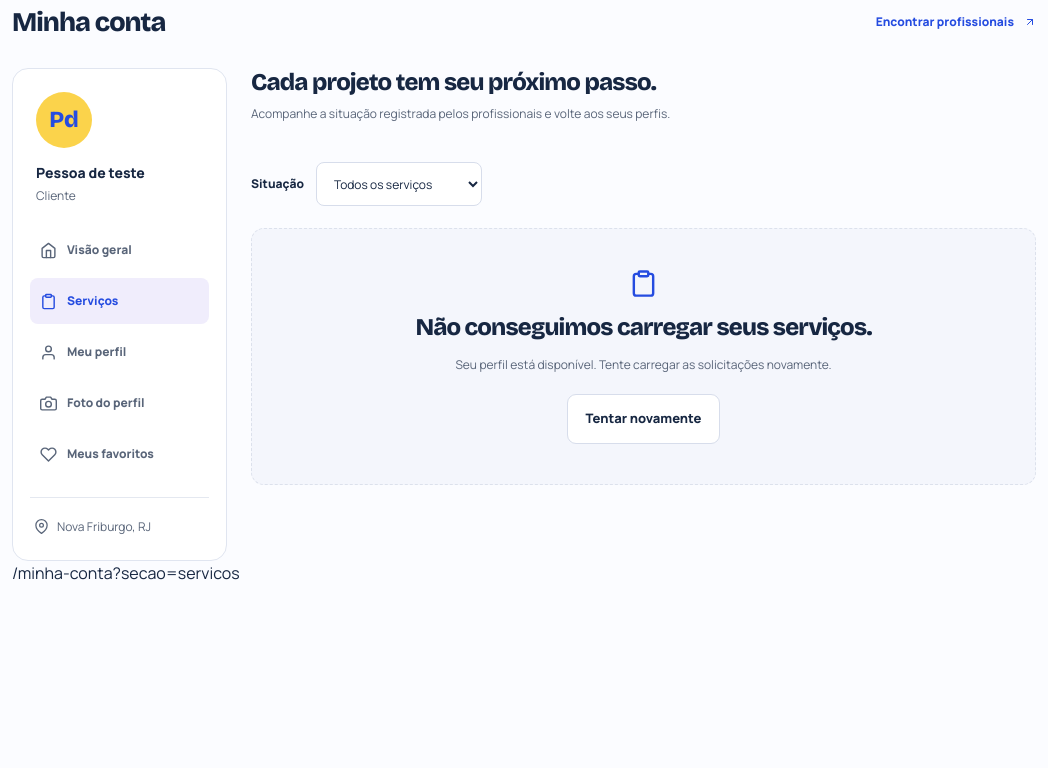
Test case: erro nas solicitações preserva o perfil e permite carregar somente os serviços de novo
Expected: the heading "Não conseguimos carregar seus serviços." is shown, [415,313,872,341]
Click the button "Tentar novamente" at x=644, y=419, box [567,394,720,444]
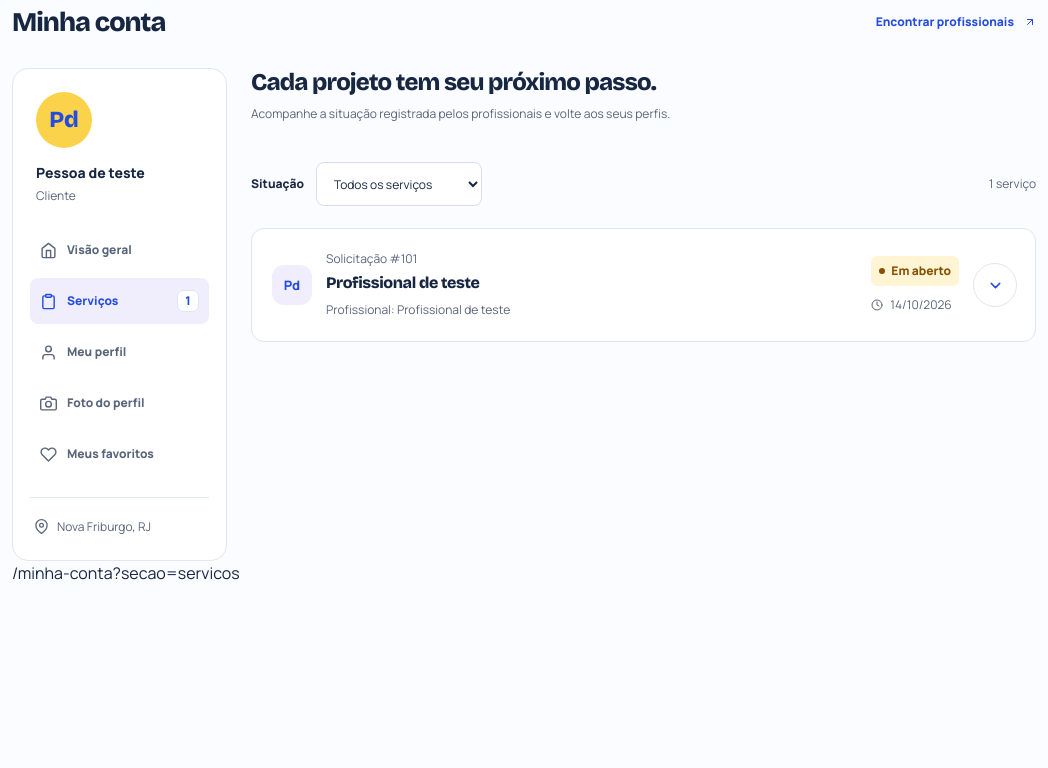
Result: the heading "Profissional de teste" is shown at [326,273,480,292]
